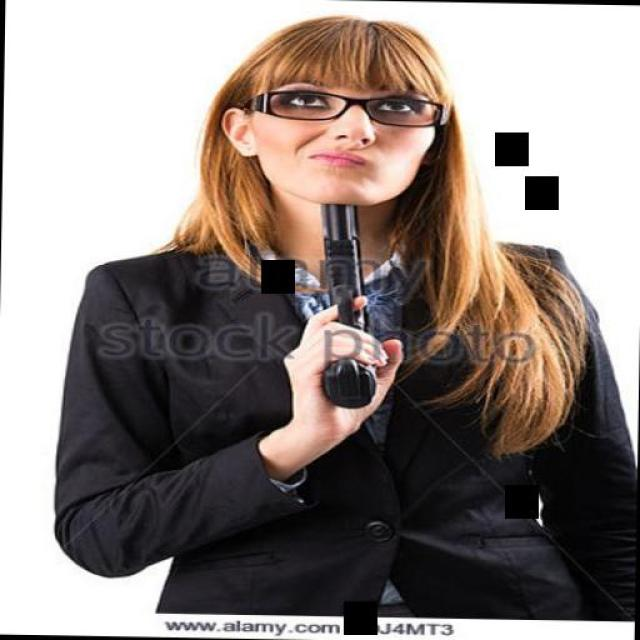gun: (316, 203, 379, 405)
